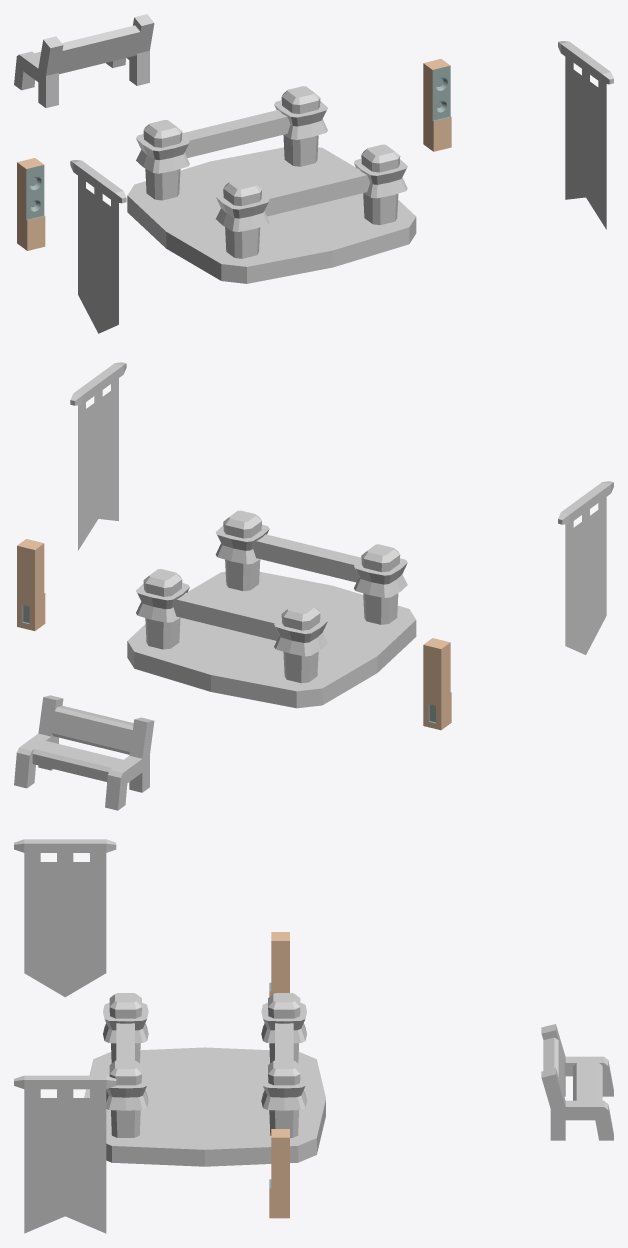
The model's file is combo-small-stage.glb.
3 renders of one model, top to bottom at view 1: azimuth 30°, elevation 25°; view 2: azimuth 150°, elevation 25°; view 3: azimuth 270°, elevation 25°, orthographic.
Parts seen in each view (by area): view 1: 00_asset-089, 04_asset-099, 03_asset-100, 05_asset-007, 02_asset-081, 01_asset-081; view 2: 00_asset-089, 05_asset-007, 04_asset-099, 03_asset-100, 01_asset-081, 02_asset-081; view 3: 00_asset-089, 04_asset-099, 03_asset-100, 05_asset-007, 02_asset-081, 01_asset-081.
Boxes of the visible parts, x1,y1,x2,y2 form: 00_asset-089: (127,86,416,283); 04_asset-099: (558,41,613,229); 03_asset-100: (70,160,126,333); 05_asset-007: (14,14,154,107); 02_asset-081: (423,59,451,151); 01_asset-081: (17,158,45,250); 00_asset-089: (127,510,416,708); 05_asset-007: (14,695,154,810); 04_asset-099: (70,362,126,550); 03_asset-100: (558,481,613,654); 01_asset-081: (423,638,451,730); 02_asset-081: (17,539,45,630); 00_asset-089: (84,993,325,1166); 04_asset-099: (14,1075,116,1233); 03_asset-100: (14,839,116,997); 05_asset-007: (541,1024,613,1140); 02_asset-081: (269,1129,289,1218); 01_asset-081: (269,932,289,996).
Bounding box in the file's own units: 6.11 × 1.85 × 6.44.
